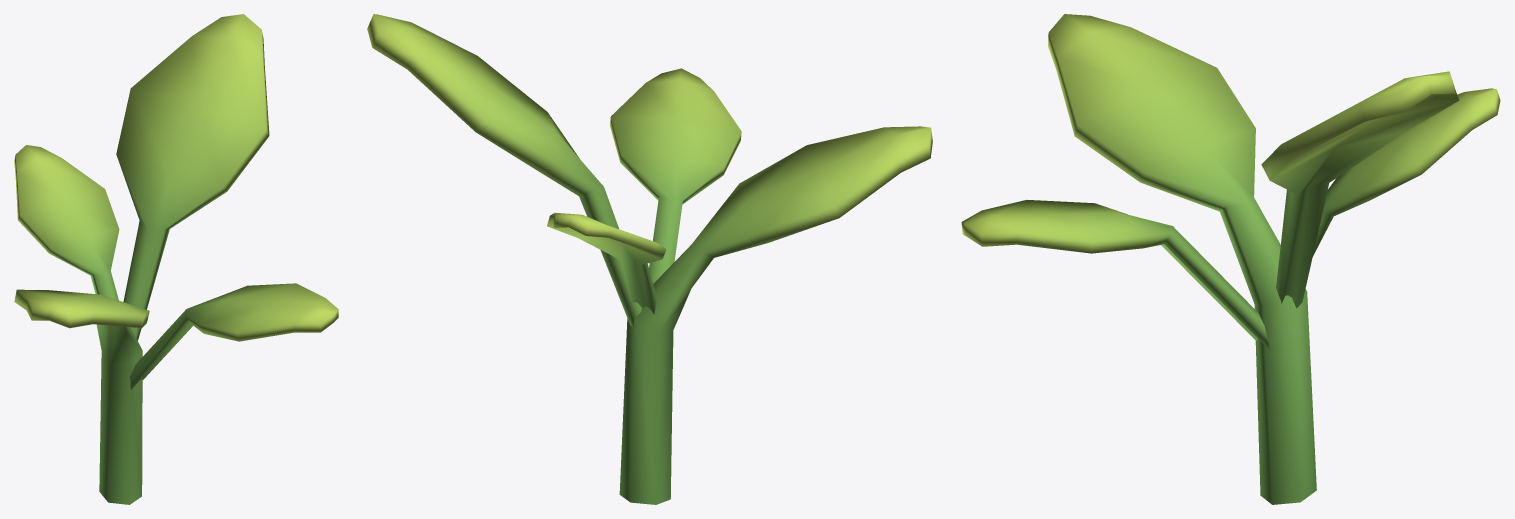
The model's file is sprout.fbx.
3 views of the same model, side by side, from view 1: azimuth 30°, elevation 25°; view 2: azimuth 150°, elevation 25°; view 3: azimuth 270°, elevation 25° (orthographic). The views are drawn at different scales.
Parts seen in each view (by area): view 1: sprout; view 2: sprout; view 3: sprout.
Part boxes in pixels (left/top/right/bottom): sprout: left=14, top=14, right=338, bottom=504; sprout: left=367, top=14, right=932, bottom=504; sprout: left=961, top=14, right=1500, bottom=504.
Bounding box in the file's own units: 0.4109 × 0.4505 × 0.4119.
1 material, 1 textured.
